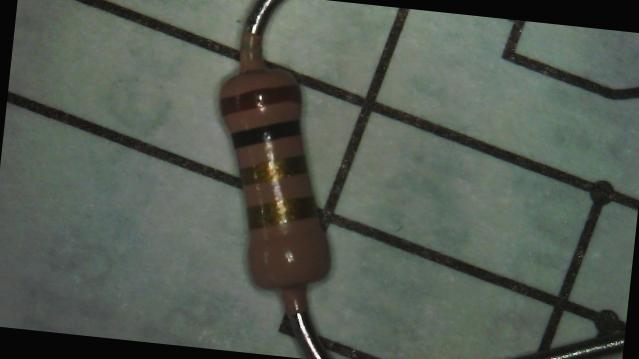black: (228, 114, 300, 154)
brown: (218, 78, 300, 125)
gold: (243, 188, 318, 236), (237, 148, 308, 192)
resistor: (182, 44, 368, 322)
